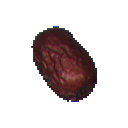gd: (23, 18, 110, 115)
